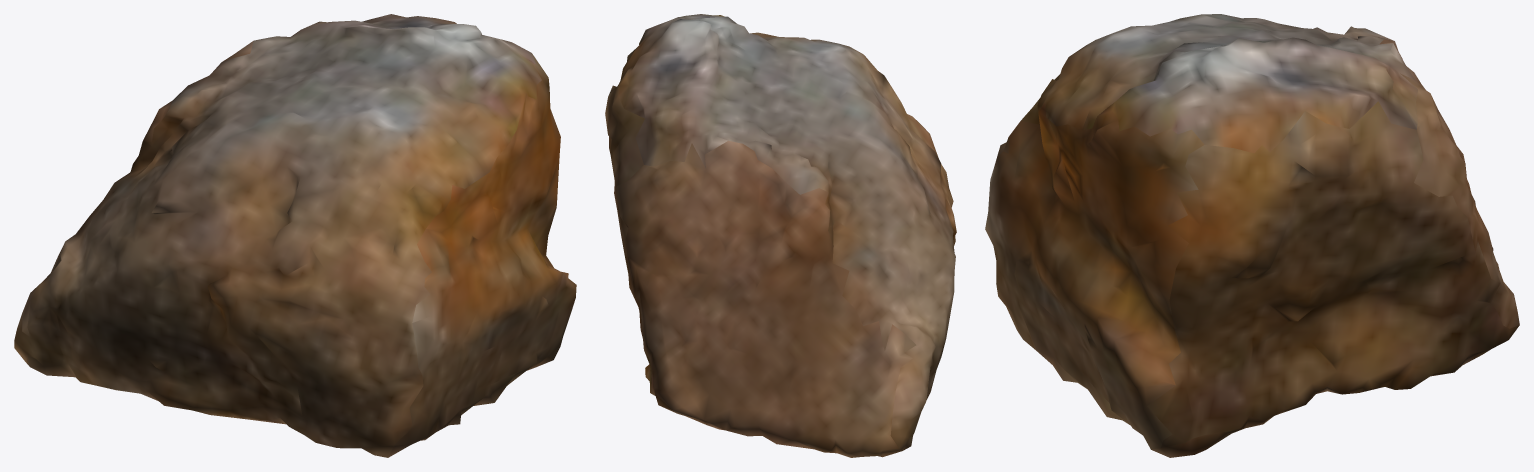
File: ph_boulder_3.glb
3 renders of one model, left to right at view 1: azimuth 30°, elevation 25°; view 2: azimuth 150°, elevation 25°; view 3: azimuth 270°, elevation 25°, orthographic. The views are drawn at different scales.
Visible parts, largest first — view 1: ph_boulder_3_lod1; view 2: ph_boulder_3_lod1; view 3: ph_boulder_3_lod1.
Boxes of the visible parts, bbox=[...] form: ph_boulder_3_lod1: bbox=[14, 14, 576, 457]; ph_boulder_3_lod1: bbox=[605, 14, 956, 457]; ph_boulder_3_lod1: bbox=[985, 14, 1519, 457].
Bounding box in the file's own units: 2.52 × 1.9 × 2.5.
1 material, 1 textured.
